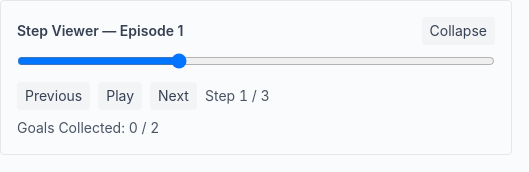
Test case: EpisodeStepViewer — Phase 51: Collapse/Expand › while collapsed, the detail controls (slider/Prev/Next/Play/Goals) are all hidden, but the heading and toggle remain visible
This screenshot has width=529, height=172.
Click the button with test id "step-viewer-toggle" at (458, 31), box [422,17,495,45]
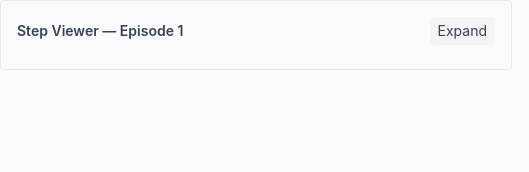
Result: the slider with test id "step-viewer-slider" is gone
Result: the button with test id "step-viewer-previous" is gone
Result: the button with test id "step-viewer-next" is gone
